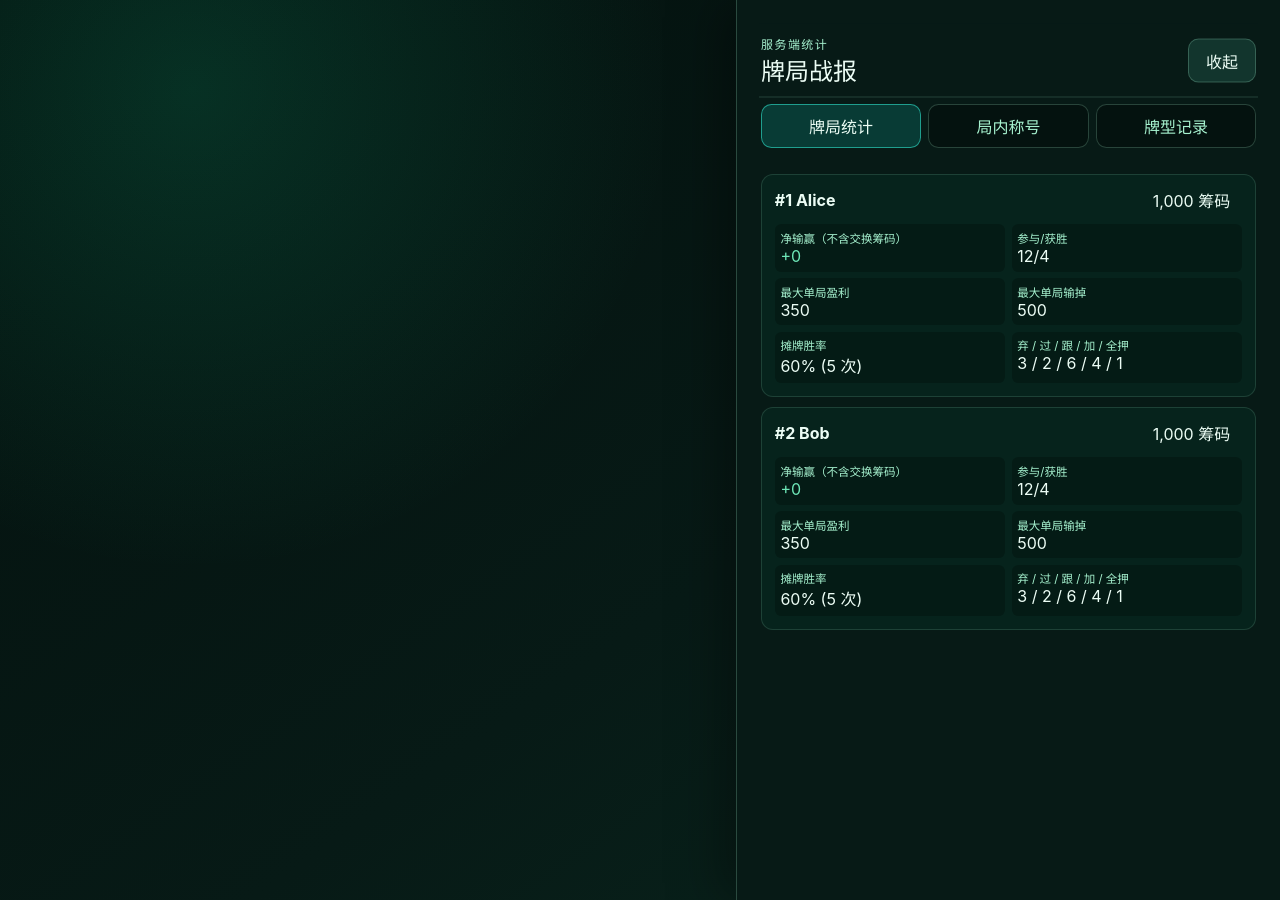
Scenario: StatisticsPanel › shows the authoritative global owner and five cards in hand records
Click the tab "牌型记录" at (1176, 126), box [1096, 104, 1256, 148]
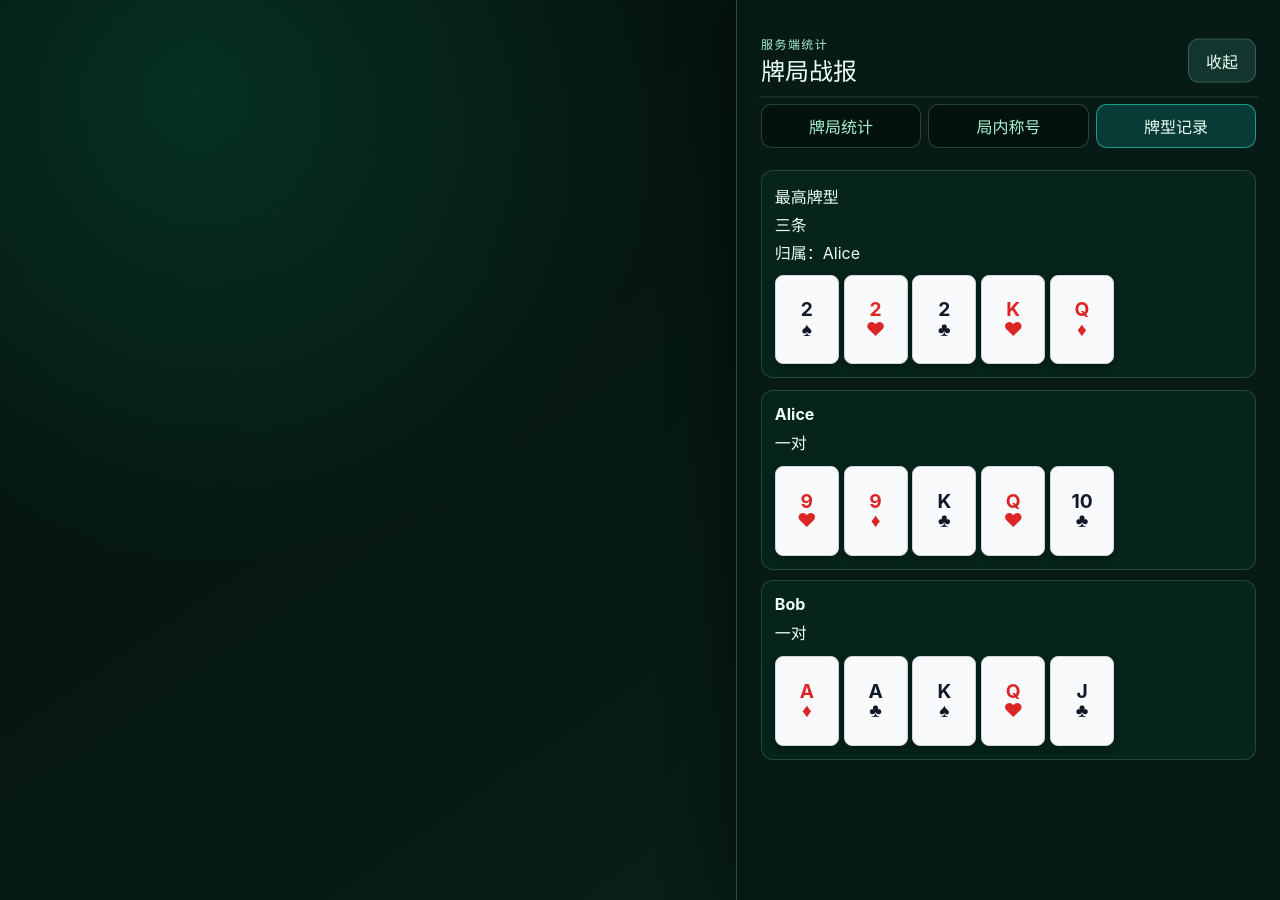
Result: the text "最高牌型" is shown at [775, 187, 839, 207]
Result: the text "归属：Alice" is shown at [775, 243, 860, 263]
Result: the element named "最高牌型第 1 张 2♠" is shown at [775, 275, 839, 364]
